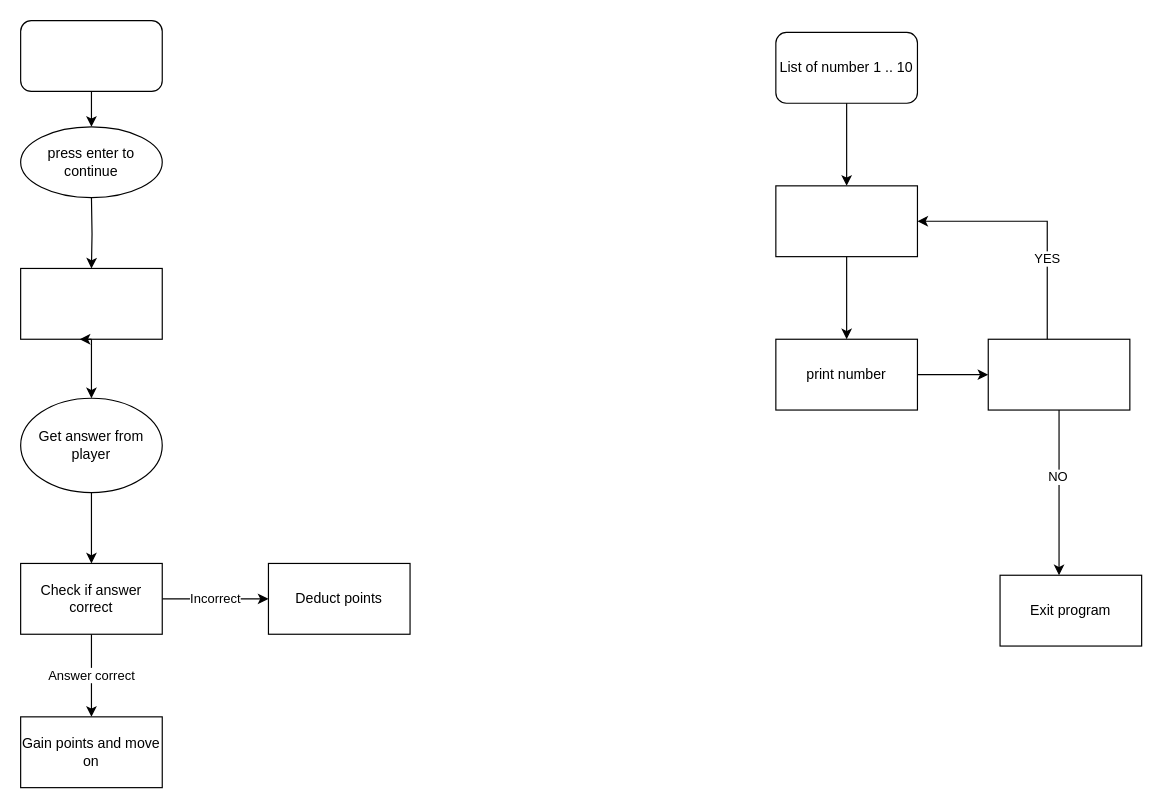
The diagram is 1162 pixels wide and 808 high, and some of its shapes have lost their labels. Each missing label, with the box of its shape:
get number: (775, 185, 917, 257)
more numbers exist: (987, 338, 1130, 410)
print first question, potential answers, and current score: (19, 267, 162, 339)
Print introduction: (19, 19, 162, 91)
